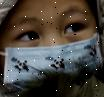with_mask: (1, 2, 104, 97)
